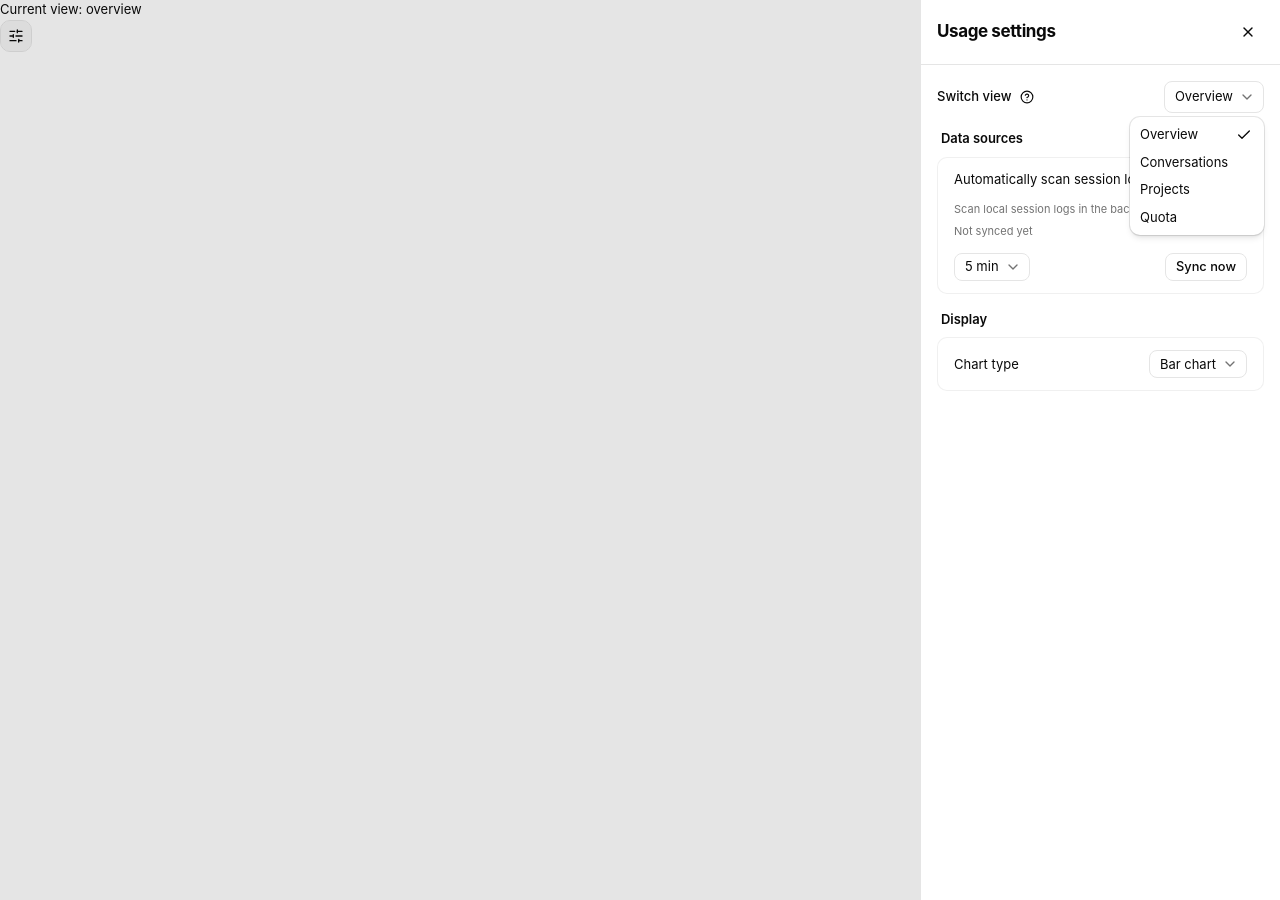
it: closes the drawer after selecting another statistics view
Earlier steps of the test are not shown.
Click the option "Projects" at (1165, 189), box [1140,181,1190,197]
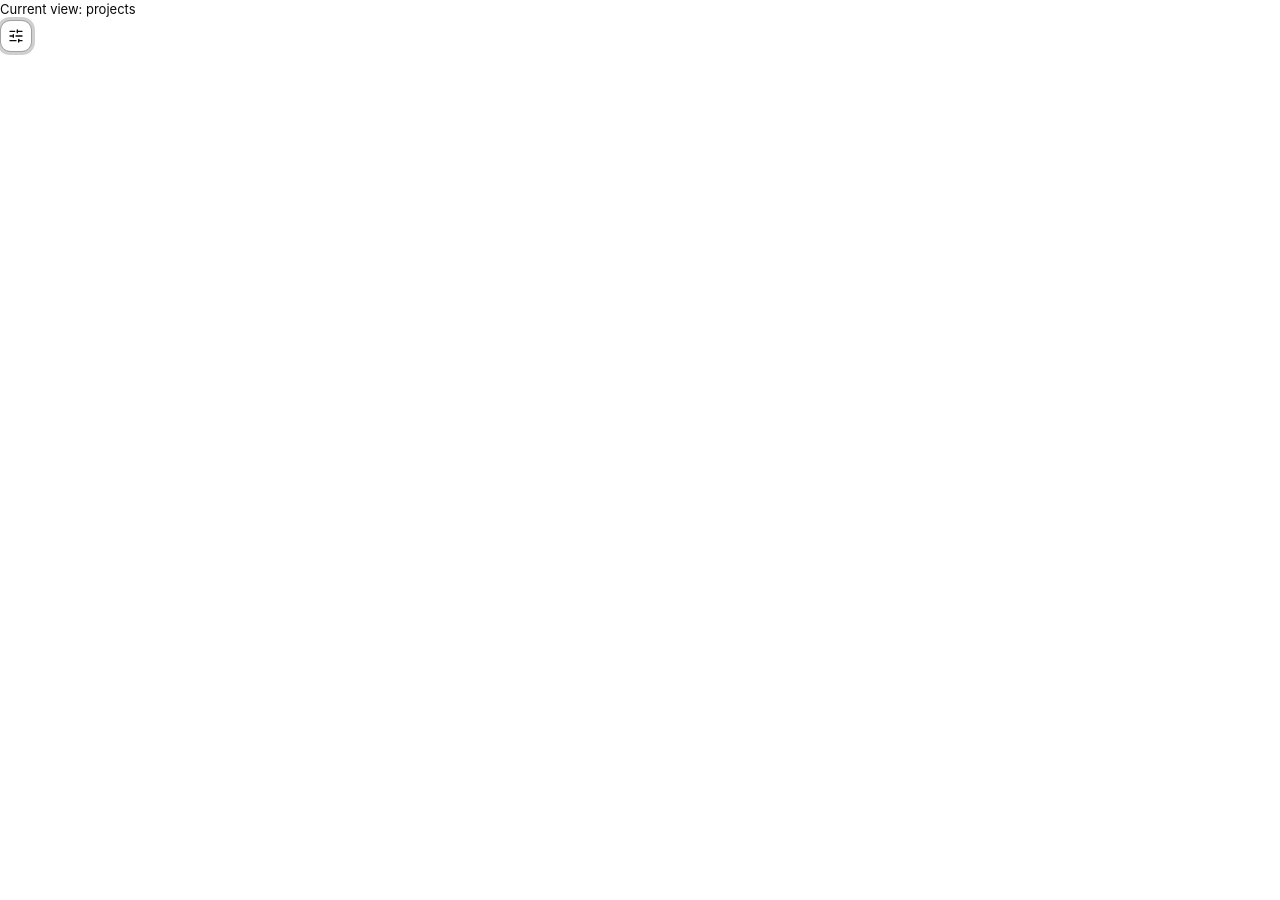
Expected: the text "Current view: projects" is shown, [0,1,136,17]
Expected: the dialog is gone
